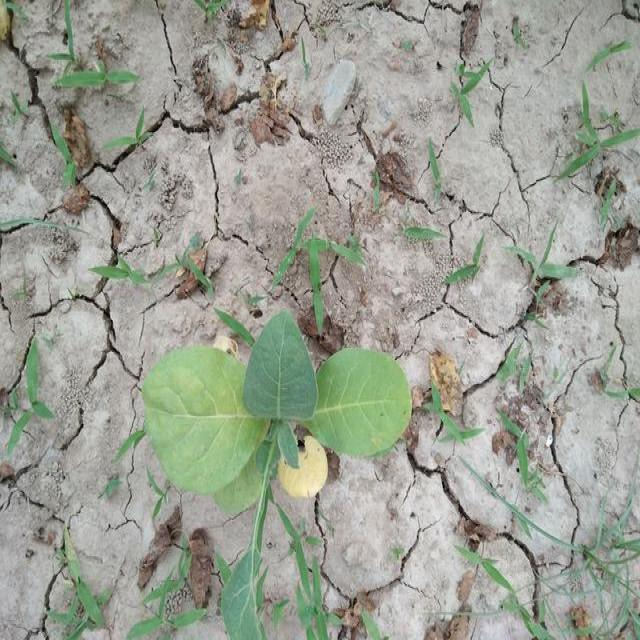crop: (138, 295, 424, 497)
